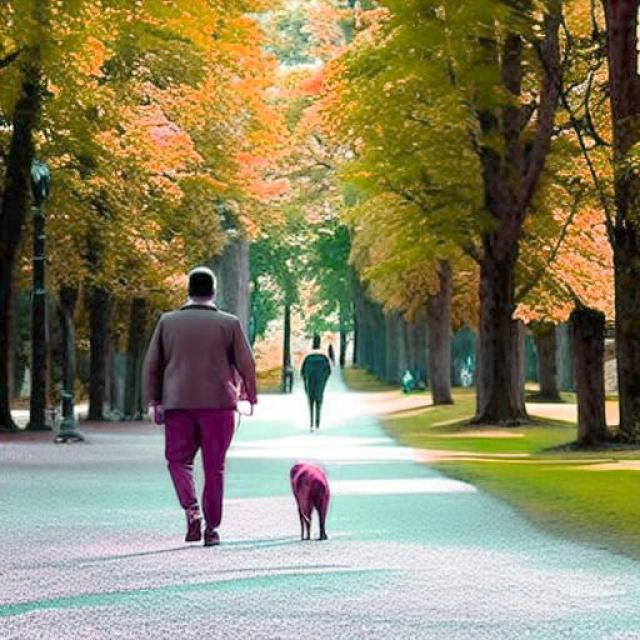Unleashed_Dog: (165, 391, 331, 542)
